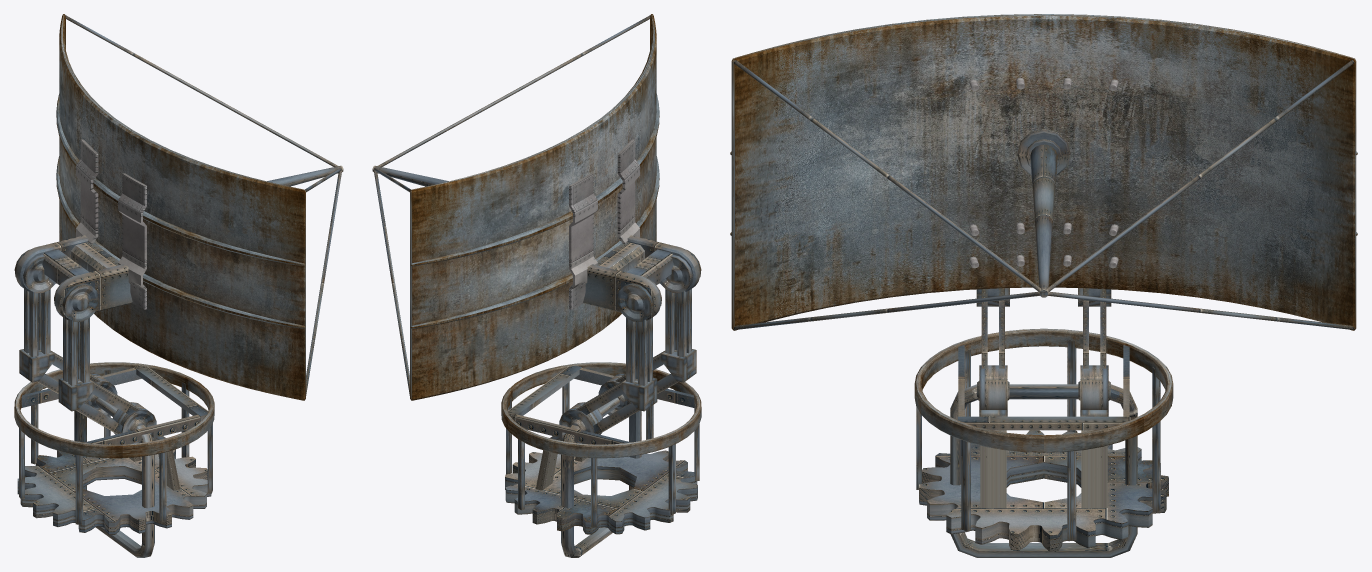
Rendered from static2.fbx.
3 views of the same model, side by side, from view 1: azimuth 30°, elevation 25°; view 2: azimuth 150°, elevation 25°; view 3: azimuth 270°, elevation 25° (orthographic). The views are drawn at different scales.
Parts seen in each view (by area): view 1: Cube, Extrude, Tube_1, Plane, Cube_6, Cube_1_3_2, Cube_5, Sweep, Cylinder_2, Cube_9, Cylinder_3_3, Cube_1_5_2 (+9 smaller); view 2: Cube, Extrude, Tube_1, Plane, Cube_6, Cube_1_3_2, Cube_5, Sweep, Cylinder_2, Cube_9, Cylinder_3_3, Cube_1_5_2 (+10 smaller); view 3: Cube, Extrude, Tube_1, Cylinder_2, Sweep, Cube_3, Cone, Cylinder_4_2, Cube_8, Cube_7, Cube_9, Cylinder (+3 smaller).
Part boxes in pixels (bbox=[...]): Cube: bbox=[59, 14, 305, 400]; Extrude: bbox=[17, 449, 211, 534]; Tube_1: bbox=[14, 362, 214, 458]; Plane: bbox=[76, 139, 146, 309]; Cube_6: bbox=[24, 289, 89, 385]; Cube_1_3_2: bbox=[56, 94, 305, 328]; Cube_5: bbox=[16, 235, 132, 320]; Sweep: bbox=[74, 397, 154, 557]; Cylinder_2: bbox=[65, 15, 341, 395]; Cube_9: bbox=[21, 368, 200, 444]; Cylinder_3_3: bbox=[14, 249, 99, 321]; Cube_1_5_2: bbox=[19, 349, 93, 411]; Cube: bbox=[410, 14, 656, 400]; Extrude: bbox=[505, 450, 697, 534]; Tube_1: bbox=[501, 362, 701, 458]; Plane: bbox=[569, 139, 639, 309]; Cube_6: bbox=[626, 289, 691, 385]; Cube_1_3_2: bbox=[410, 94, 659, 328]; Cube_5: bbox=[583, 235, 699, 320]; Sweep: bbox=[561, 397, 641, 557]; Cylinder_2: bbox=[374, 15, 650, 395]; Cube_9: bbox=[515, 368, 694, 444]; Cylinder_3_3: bbox=[616, 249, 701, 321]; Cube_1_5_2: bbox=[622, 349, 696, 411]; Cube: bbox=[731, 14, 1356, 330]; Extrude: bbox=[919, 430, 1168, 551]; Tube_1: bbox=[914, 328, 1173, 452]; Cylinder_2: bbox=[733, 60, 1354, 329]; Sweep: bbox=[950, 384, 1137, 557]; Cube_3: bbox=[980, 410, 1107, 507]; Cone: bbox=[1030, 144, 1057, 297]; Cylinder_4_2: bbox=[977, 365, 1110, 416]; Cube_8: bbox=[957, 416, 1130, 430]; Cube_7: bbox=[981, 288, 1106, 368]; Cube_9: bbox=[958, 345, 1129, 416]; Cylinder: bbox=[1017, 129, 1070, 175].
Size of the model in its own units: 304 by 387 by 407.
Materials: 4 (4 with a texture image).
